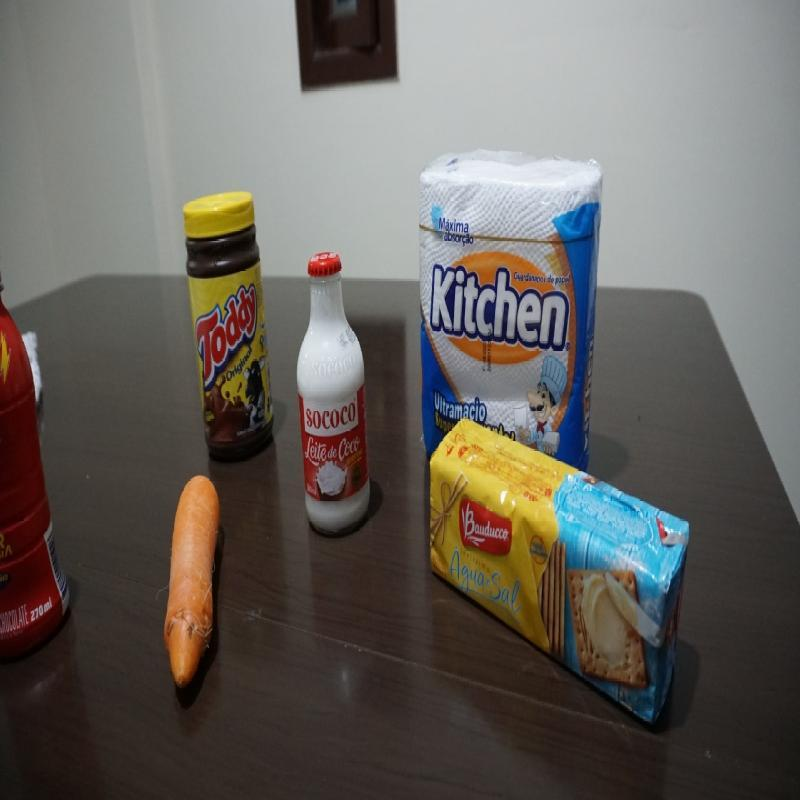Carrot: (164, 473, 221, 685)
Chocolate Milk: (0, 262, 72, 660)
Chocolate Powder: (180, 189, 276, 459)
Coconut Milk: (295, 248, 371, 538)
Cracker: (427, 418, 691, 726)
Napkin: (413, 146, 607, 420)
